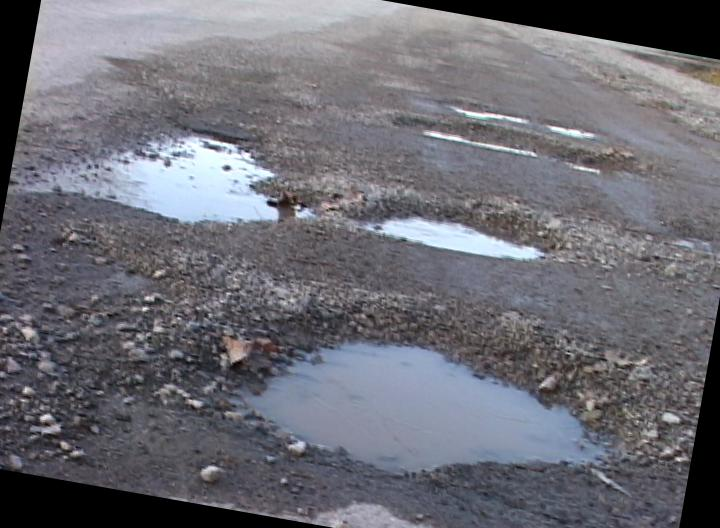pothole: (226, 312, 624, 511), (26, 84, 329, 252), (375, 74, 660, 206), (354, 177, 562, 287)
